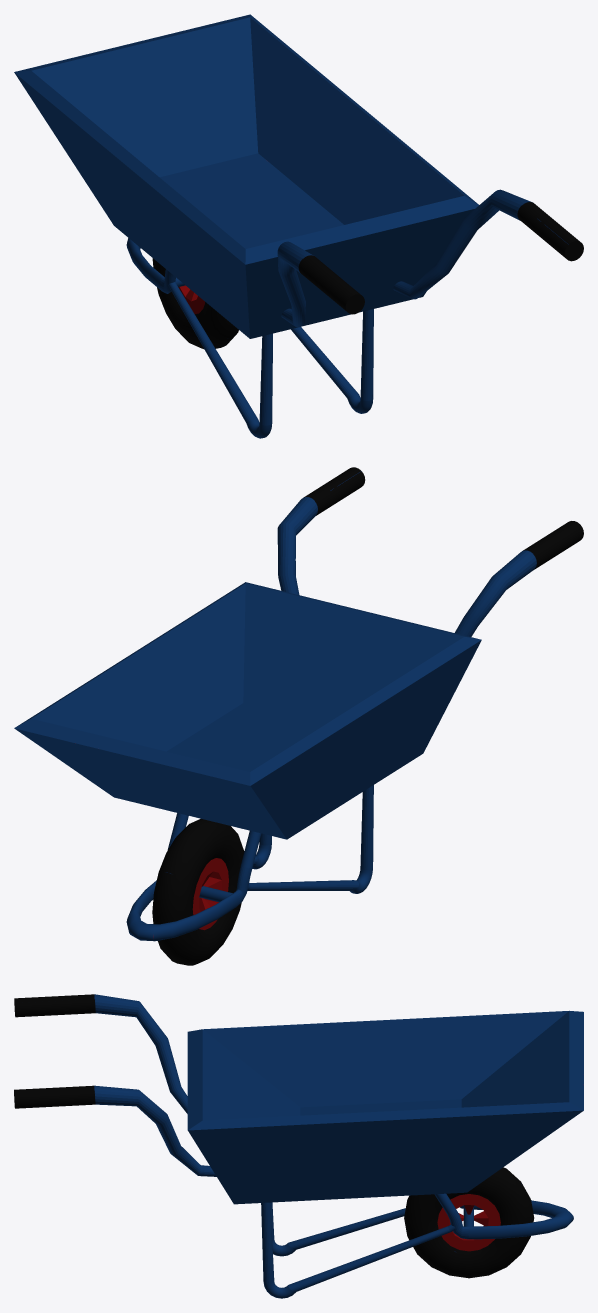
The model's file is wheelbarrow 1.fbx.
The picture shows the model from 3 angles, top to bottom: view 1: azimuth 30°, elevation 25°; view 2: azimuth 150°, elevation 25°; view 3: azimuth 270°, elevation 25°; orthographic projection. The views are drawn at different scales.
Parts seen in each view (by area): view 1: wheelbarrow; view 2: wheelbarrow; view 3: wheelbarrow.
Part boxes in pixels (x1,y1,x2,y2): wheelbarrow: (14, 14, 583, 438); wheelbarrow: (14, 467, 583, 965); wheelbarrow: (14, 994, 583, 1298).
Size of the model in its own units: 0.2741 by 0.3036 by 0.6639.
